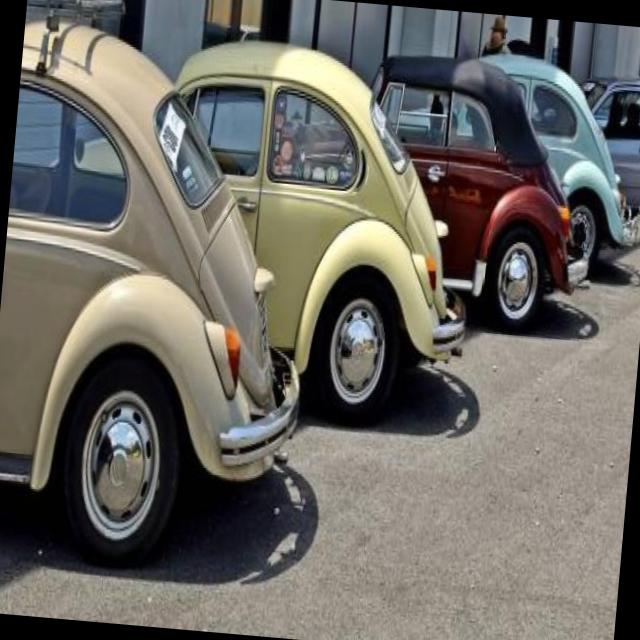car: (0, 13, 309, 551), (111, 46, 466, 425), (337, 56, 578, 331), (437, 37, 625, 254)
